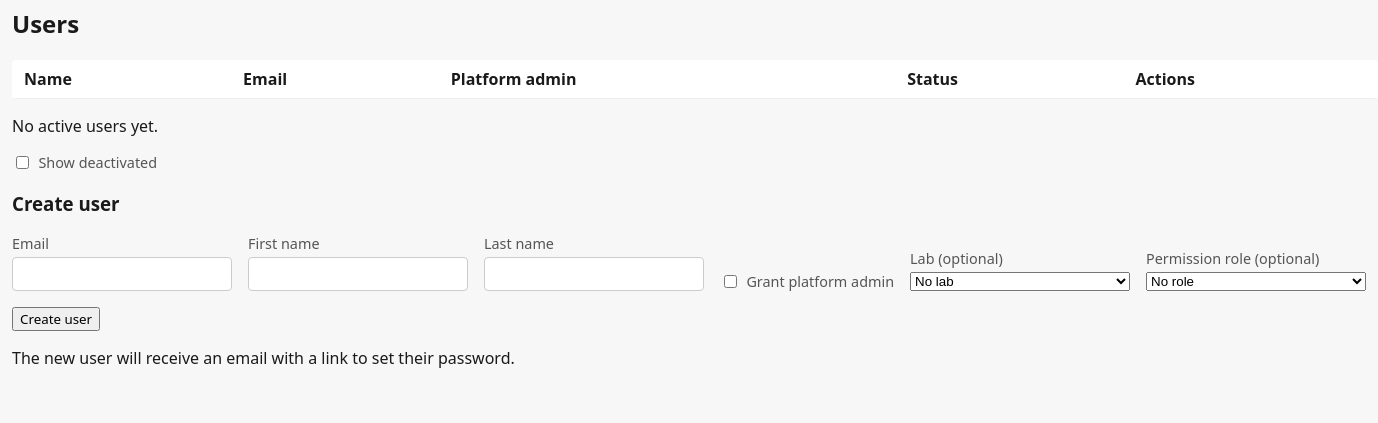
Test: AdminUsers create form › rejects submitting a permission role without a lab
This screenshot has width=1378, height=423.
Expected: the text "No active users yet." is shown, [12, 115, 158, 137]
Step 1. Type "new-hire@example.edu" into the field labelled "Email" → (122, 274), box [12, 257, 232, 291]
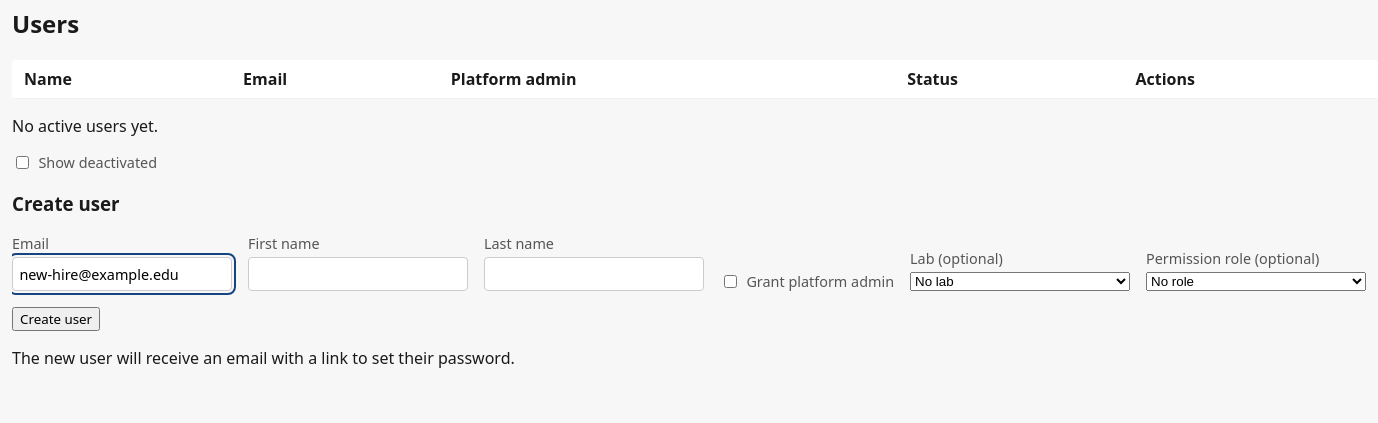
Step 2. Type "New" into the field labelled "First name" → (358, 274), box [248, 257, 468, 291]
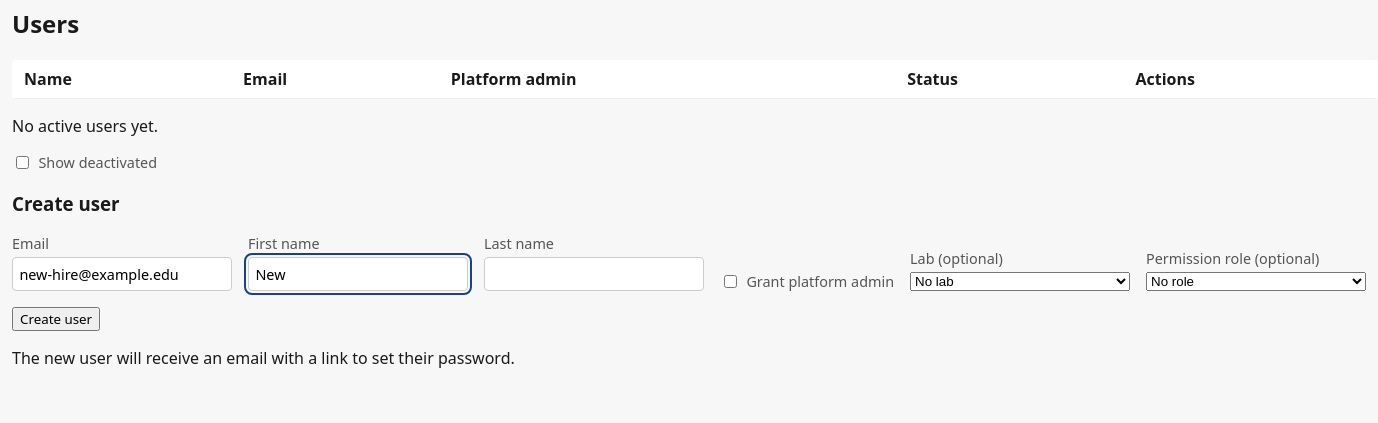
Step 3. Type "Hire" into the field labelled "Last name" → (594, 274), box [484, 257, 704, 291]
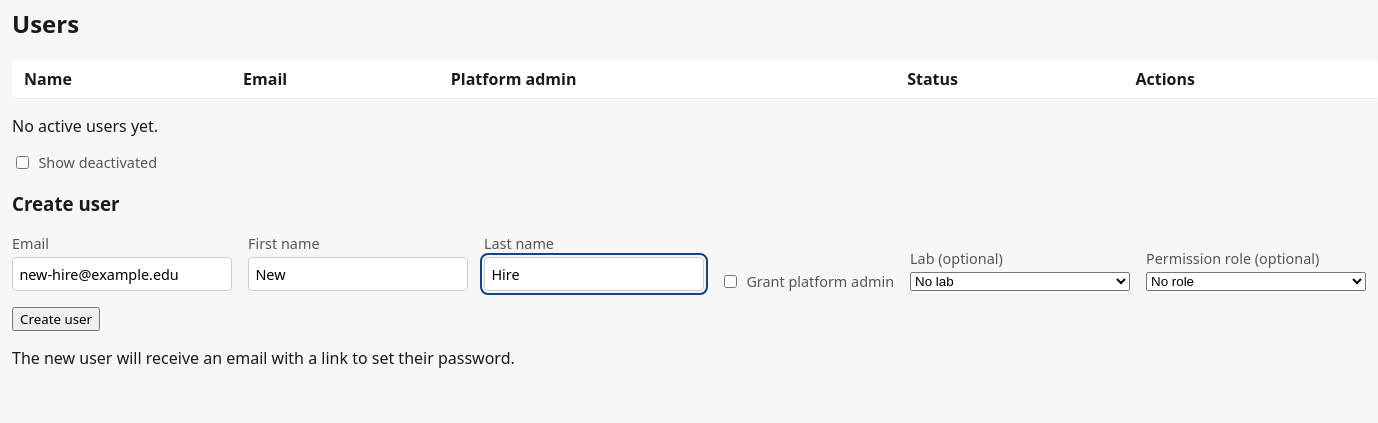
Step 4. Select "staff" in the dropdown labelled "Permission role (optional)" → (1256, 282), box [1146, 272, 1366, 291]
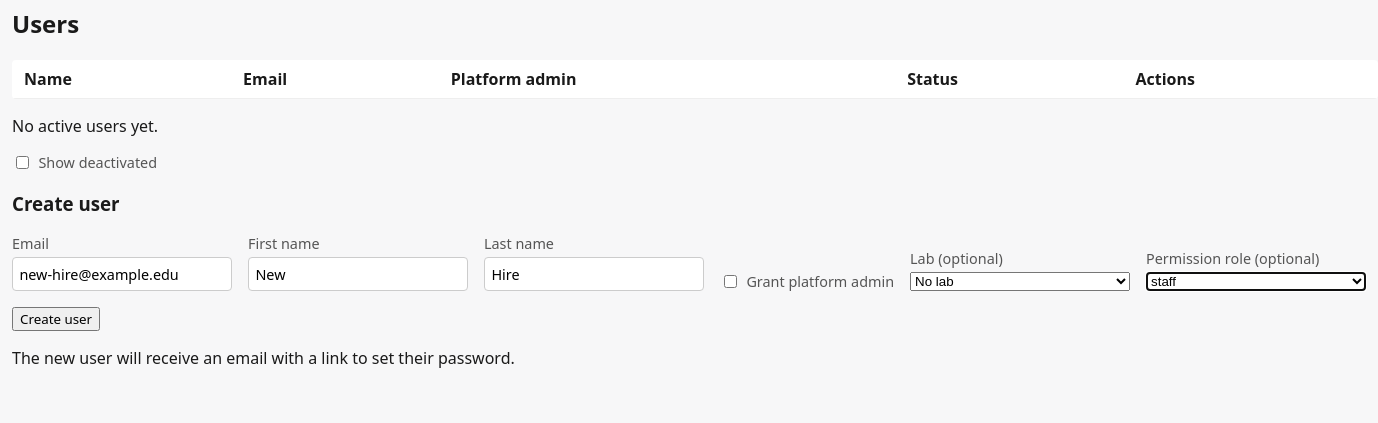
Step 5. Click the button "Create user" → (56, 319), box [12, 307, 100, 331]
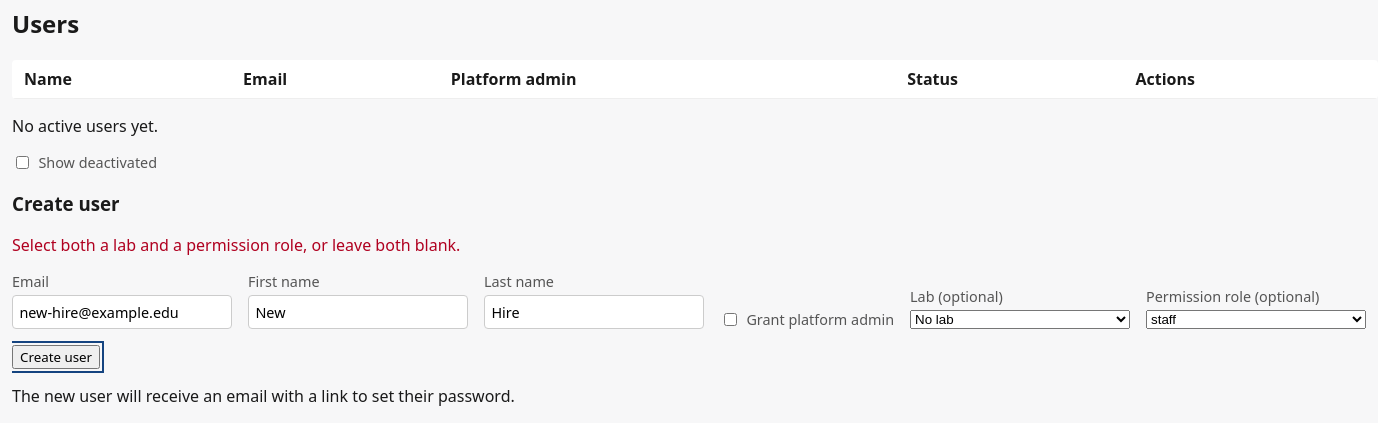
Expected: the message shows "Select both a lab and a permission role", [12, 234, 460, 256]
